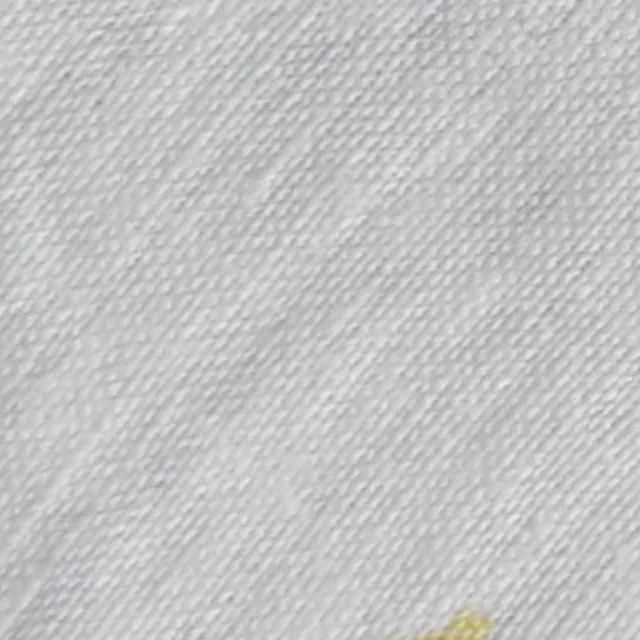Stain: (388, 615, 501, 639)
